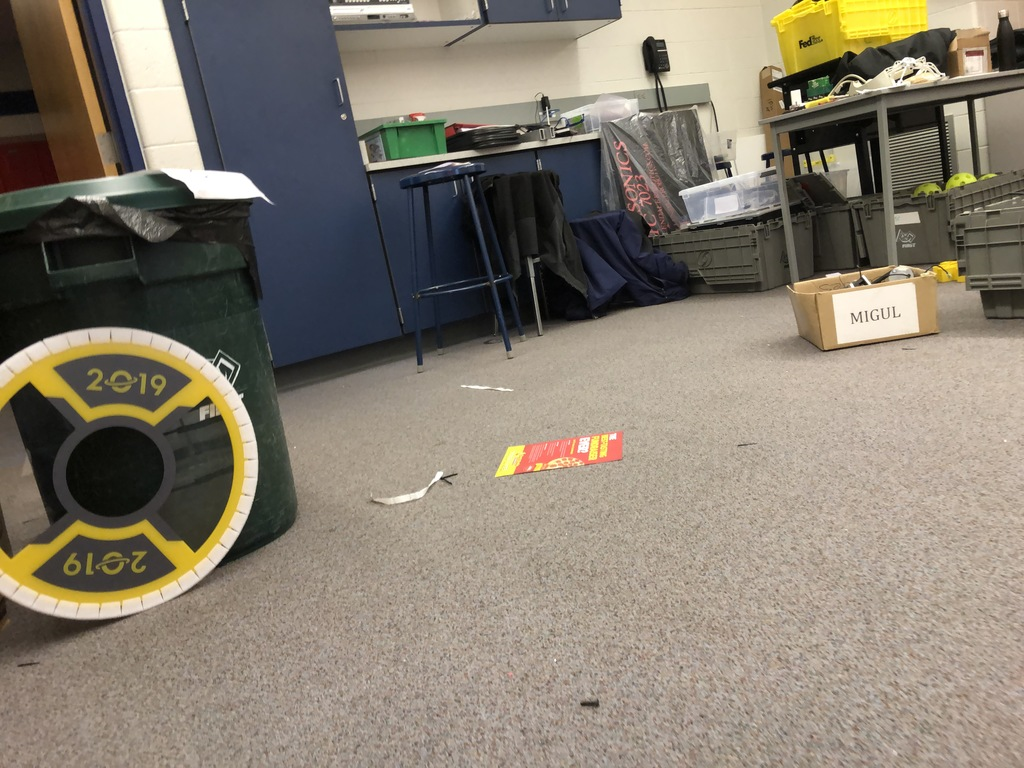hatch_panel: (1, 311, 277, 640)
